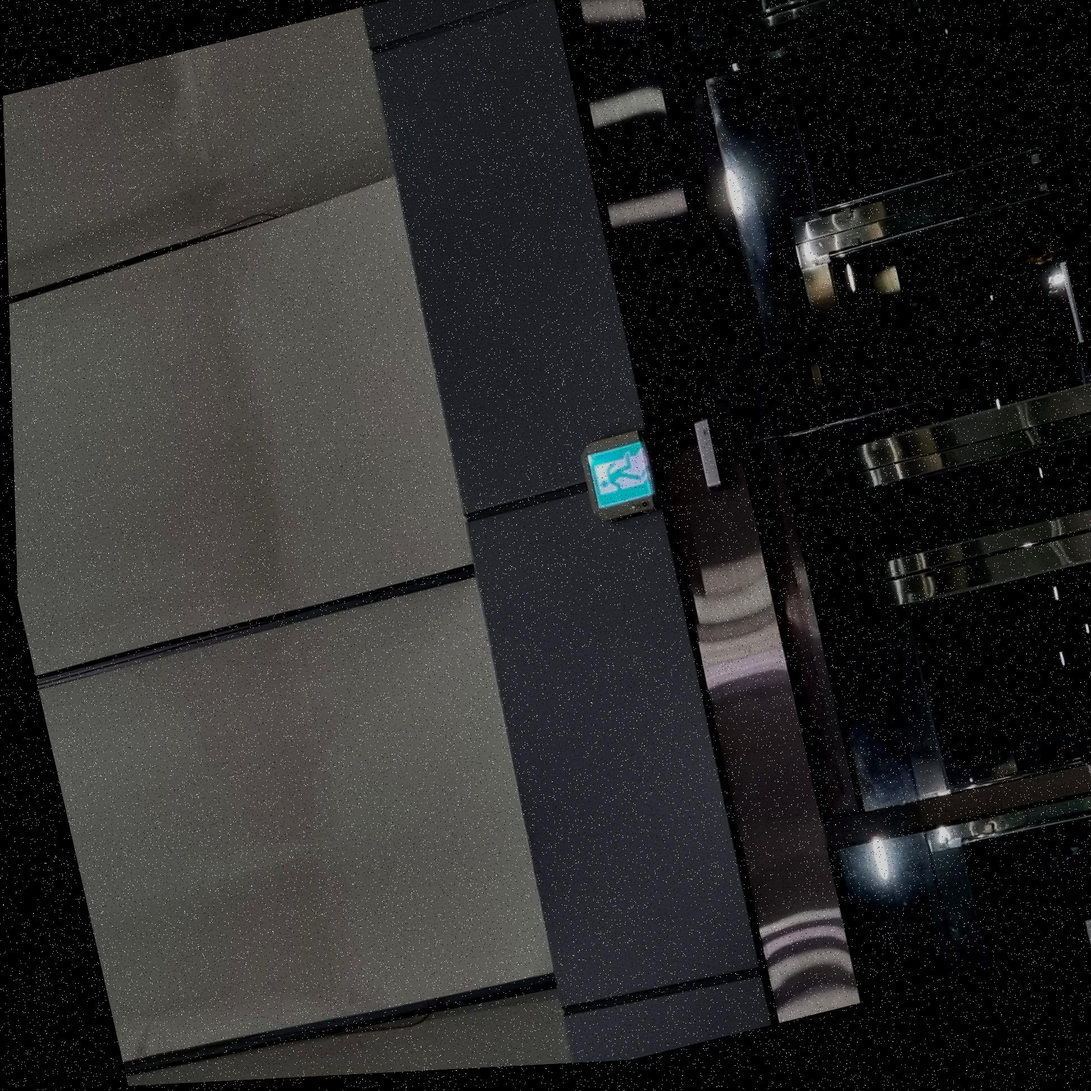emergency_exit: (581, 431, 658, 521)
